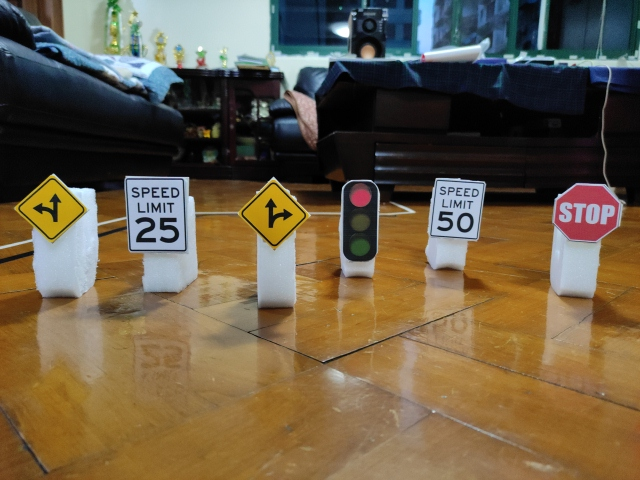Red Traffic Light: (342, 180, 379, 262)
Speed Limit 25: (123, 176, 189, 252)
Speed Limit 50: (430, 178, 486, 239)
Stop Sign: (553, 183, 622, 243)
Straight Or Left Sign: (18, 176, 86, 239)
Straight Or Right Sign: (240, 179, 310, 247)
